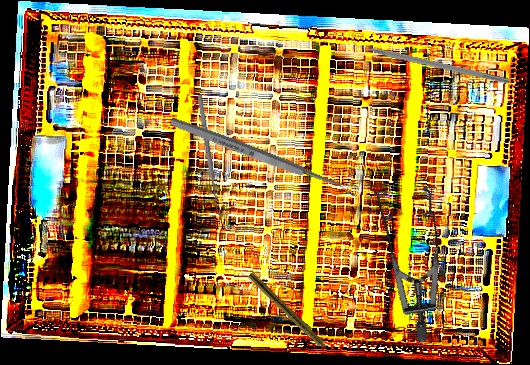Chopper: (344, 32, 513, 85)
Handpiece: (245, 271, 336, 359)
Hook Surgical: (195, 93, 227, 217)
Speculum: (323, 163, 489, 345)
Surgical Spoon: (168, 115, 361, 199)
